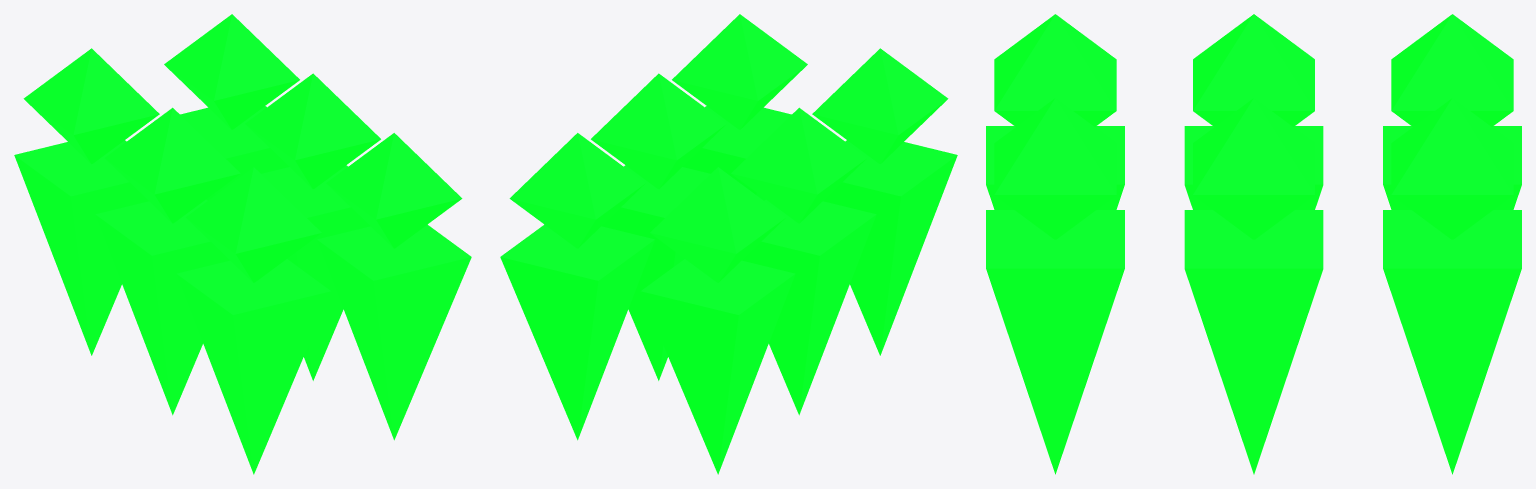
File: person_g06.glb
The picture shows the model from 3 angles, left to right: view 1: azimuth 30°, elevation 25°; view 2: azimuth 150°, elevation 25°; view 3: azimuth 270°, elevation 25°; orthographic projection. The views are drawn at different scales.
Parts seen in each view (by area): view 1: person.011, person.012, person.016, person.014, person.013, person.015; view 2: person.015, person.016, person.012, person.014, person.013, person.011; view 3: person.013, person.011, person.015, person.012, person.016, person.014.
Part boxes in pixels (left/top/right/bottom): person.011: left=317, top=133, right=471, bottom=440; person.012: left=176, top=167, right=331, bottom=474; person.016: left=14, top=48, right=159, bottom=355; person.014: left=95, top=107, right=240, bottom=415; person.013: left=245, top=73, right=380, bottom=380; person.015: left=164, top=14, right=299, bottom=200; person.015: left=500, top=133, right=654, bottom=440; person.016: left=640, top=167, right=795, bottom=474; person.012: left=812, top=48, right=957, bottom=355; person.014: left=731, top=107, right=876, bottom=415; person.013: left=591, top=73, right=726, bottom=380; person.011: left=672, top=14, right=807, bottom=200; person.013: left=1184, top=98, right=1323, bottom=474; person.011: left=986, top=98, right=1124, bottom=474; person.015: left=1383, top=98, right=1521, bottom=474; person.012: left=986, top=14, right=1124, bottom=209; person.016: left=1383, top=14, right=1521, bottom=209; person.014: left=1184, top=14, right=1323, bottom=209.
Size of the model in its own units: 1.7 by 2.1 by 2.7.
